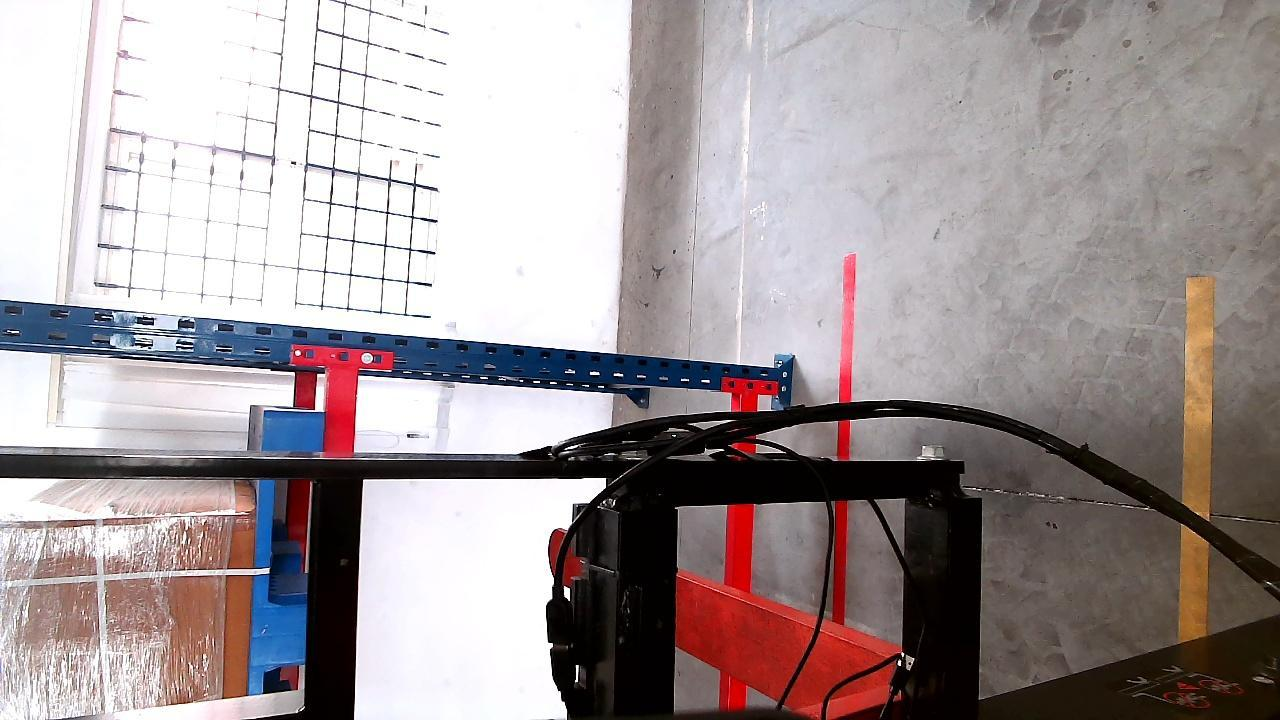red_line: (832, 256, 858, 623)
yellow_line: (1180, 271, 1215, 644)
